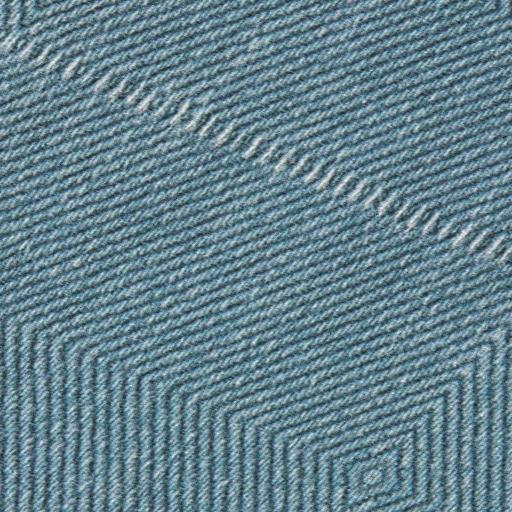slub: (1, 24, 511, 270)
